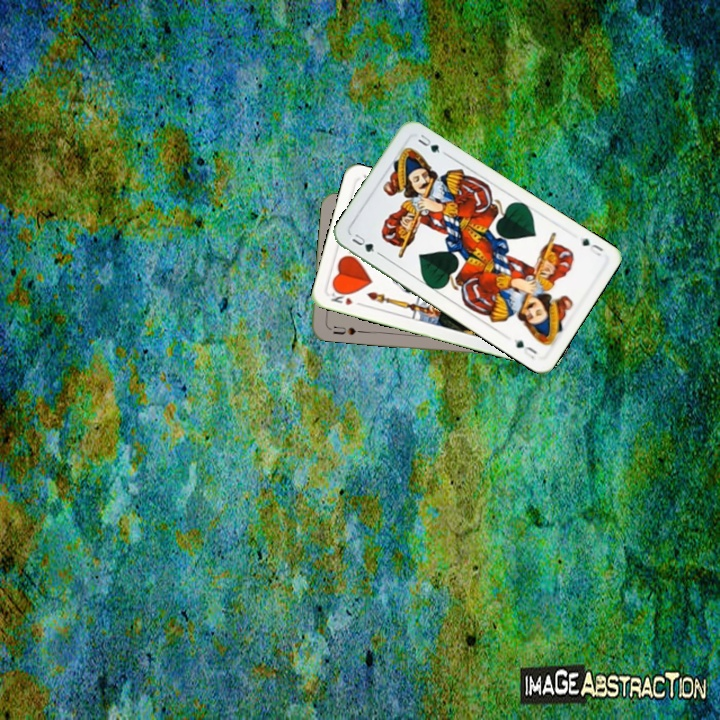GU: (348, 228, 377, 255), (578, 234, 606, 259)
HK: (327, 286, 366, 309)
SU: (329, 322, 358, 338)
